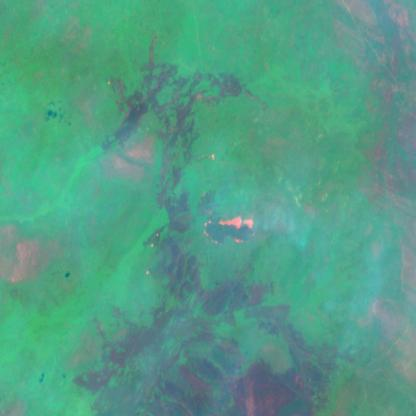fire: (200, 206, 258, 250)
